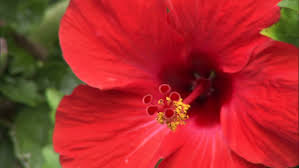hybiscus: (54, 1, 298, 167)
